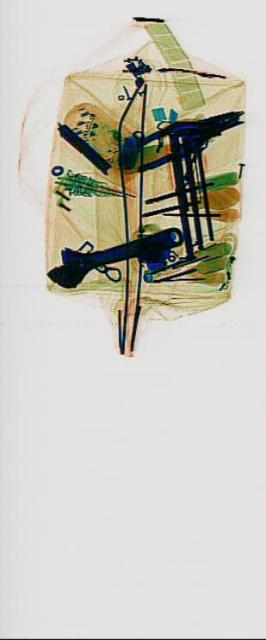Pliers: (154, 96, 243, 164)
Wrench: (43, 209, 181, 295)
